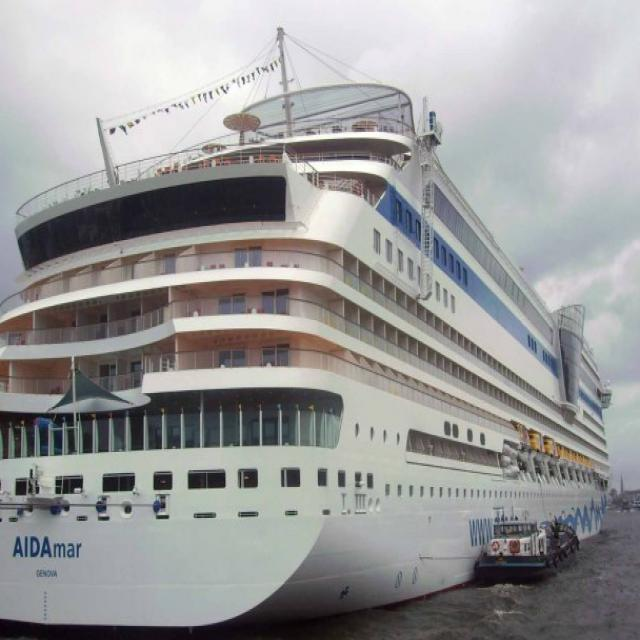cruises: (1, 22, 622, 640)
